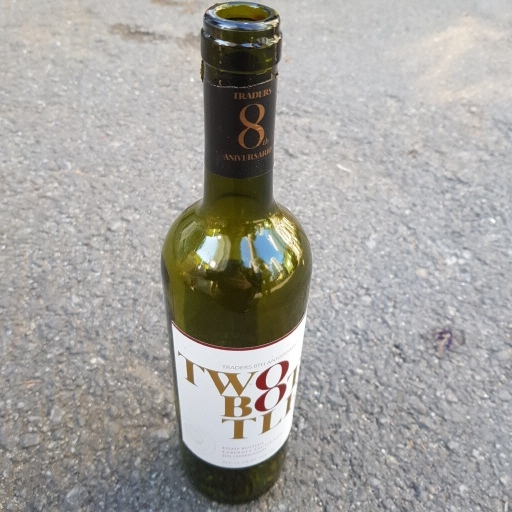Glass_2: (156, 1, 313, 503)
